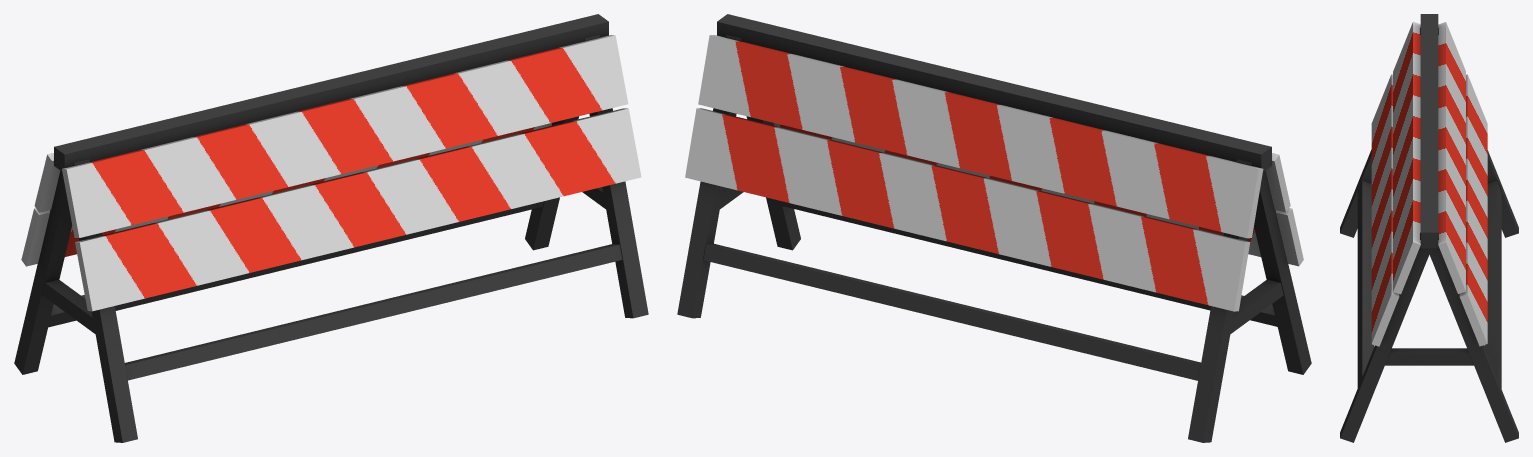
3 views of the same model, side by side, from view 1: azimuth 30°, elevation 25°; view 2: azimuth 150°, elevation 25°; view 3: azimuth 270°, elevation 25° (orthographic). The views are drawn at different scales.
Parts seen in each view (by area): view 1: road_blocker_2; view 2: road_blocker_2; view 3: road_blocker_2.
Part boxes in pixels (x1,y1,x2,y2): road_blocker_2: [14, 14, 648, 442]; road_blocker_2: [677, 14, 1311, 442]; road_blocker_2: [1340, 14, 1518, 442].
Size of the model in its own units: 4.31 by 1.95 by 1.47.
Materials: 1 (1 with a texture image).
